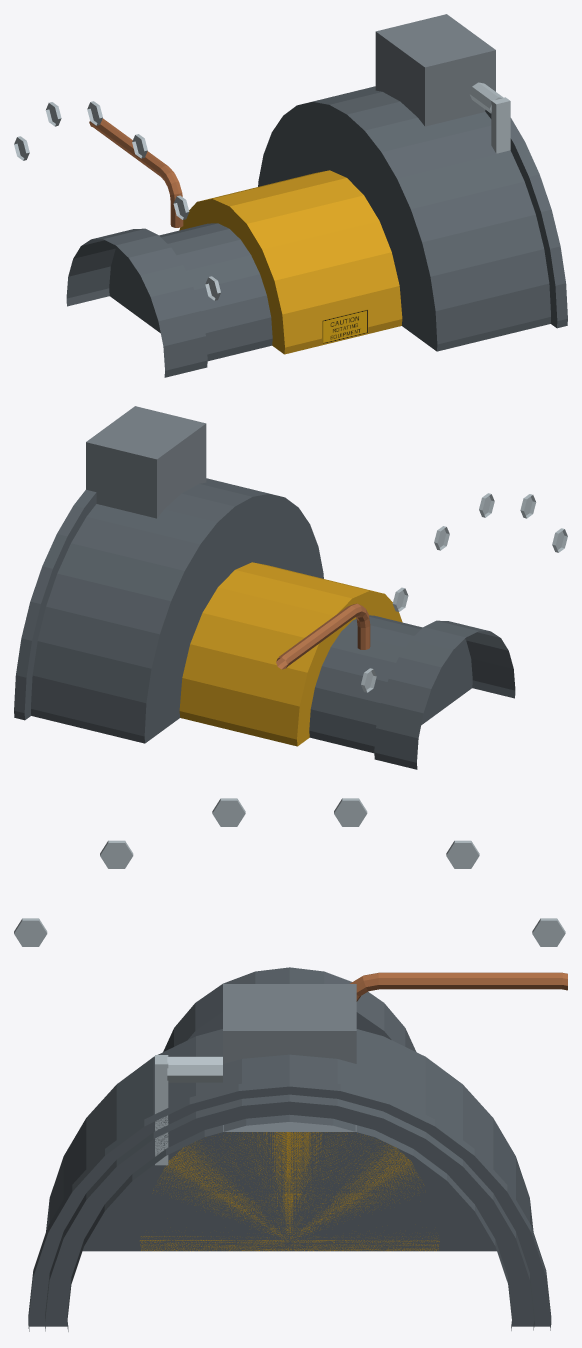
File: cell_32.obj
3 views of the same model, one above another, from view 1: azimuth 30°, elevation 25°; view 2: azimuth 150°, elevation 25°; view 3: azimuth 270°, elevation 25° (orthographic). The views are drawn at different scales.
Size of the model in its own units: 1 by 0.6 by 0.9956.
